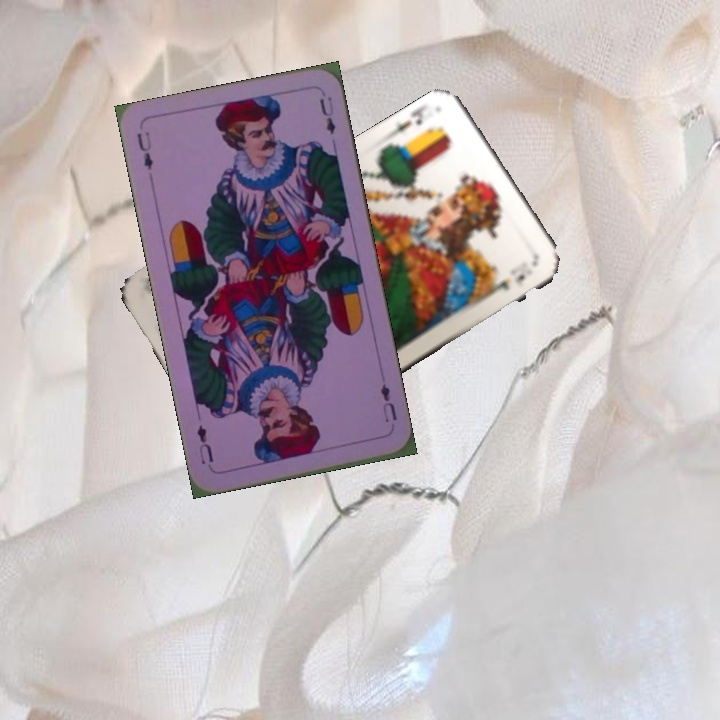EK: (388, 102, 431, 139)
EU: (376, 373, 400, 425), (133, 127, 155, 173)
